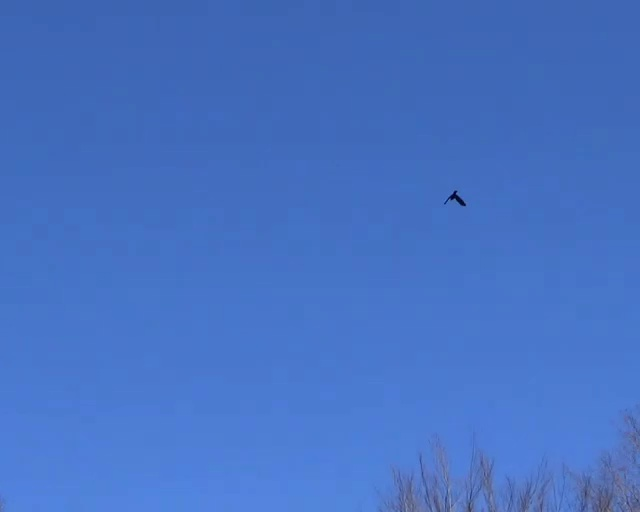BIRD: (444, 189, 466, 207)
